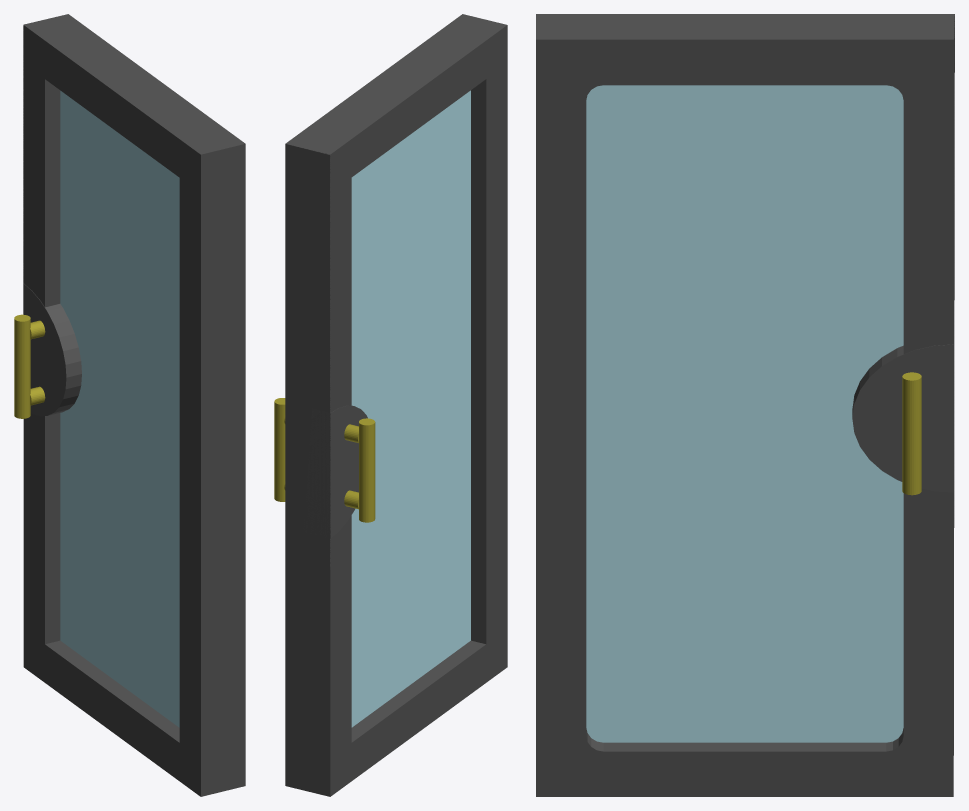
File: Dış kapı.fbx
3 views of the same model, side by side, from view 1: azimuth 30°, elevation 25°; view 2: azimuth 150°, elevation 25°; view 3: azimuth 270°, elevation 25° (orthographic). The views are drawn at different scales.
Visible parts, largest first — view 1: Cube.001; view 2: Cube.001; view 3: Cube.001.
Part boxes in pixels (x1=…): Cube.001: x1=14, y1=14, x2=245, y2=796; Cube.001: x1=274, y1=14, x2=507, y2=796; Cube.001: x1=536, y1=14, x2=954, y2=796.
Bounding box in the file's own units: 32.11 × 200 × 100.
